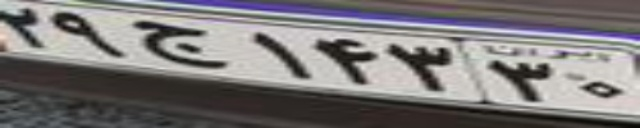0: (577, 80, 623, 100)
1: (250, 33, 312, 79)
2: (0, 5, 45, 49)
3: (386, 43, 455, 92), (488, 59, 552, 102)
4: (313, 37, 376, 84)
9: (52, 11, 120, 57)
jim: (132, 21, 226, 69)
